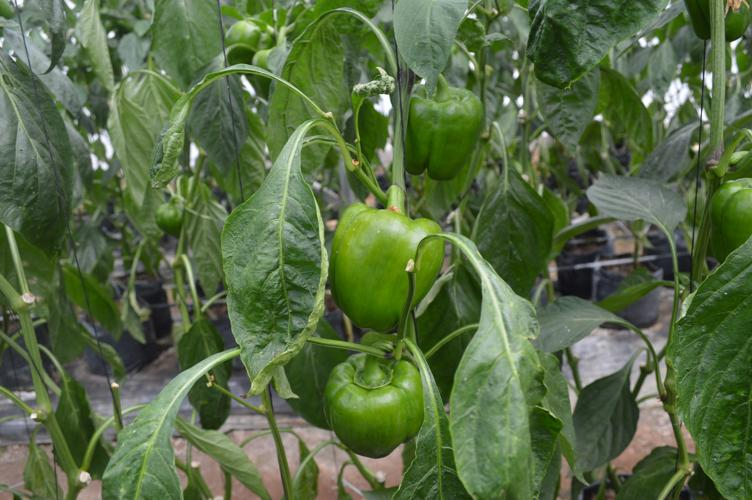BellPepper: (331, 208, 443, 330), (323, 353, 425, 453), (407, 85, 483, 177), (703, 180, 749, 269)
